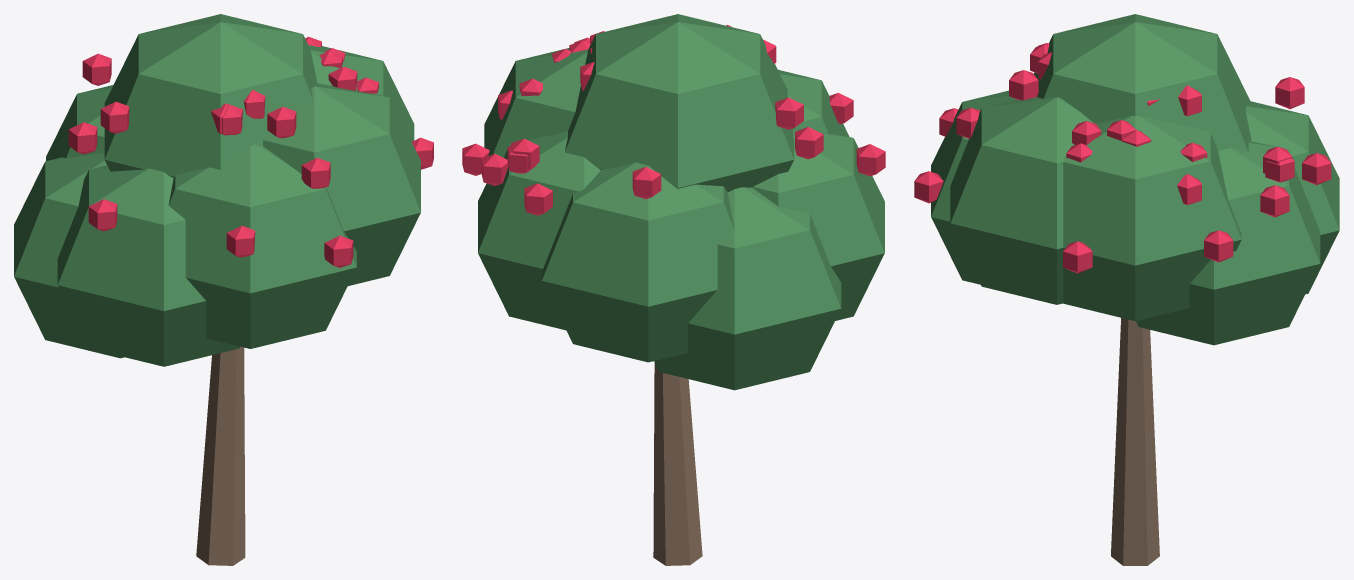
File: tsubaki_camellia_tree.glb
The picture shows the model from 3 angles, left to right: view 1: azimuth 30°, elevation 25°; view 2: azimuth 150°, elevation 25°; view 3: azimuth 270°, elevation 25°; orthographic projection.
Parts seen in each view (by area): view 1: tsubaki_camellia_tree; view 2: tsubaki_camellia_tree; view 3: tsubaki_camellia_tree.
Boxes of the visible parts, bbox=[...] form: tsubaki_camellia_tree: bbox=[14, 14, 433, 565]; tsubaki_camellia_tree: bbox=[462, 14, 885, 565]; tsubaki_camellia_tree: bbox=[914, 14, 1339, 565].
Size of the model in its own units: 3.91 by 5.29 by 3.81.
